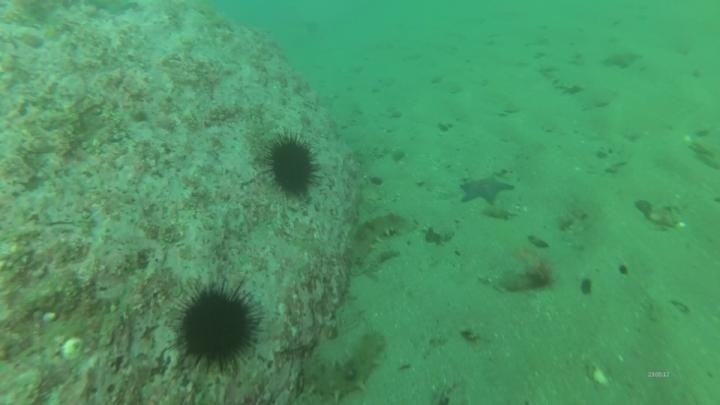echinus: (172, 279, 263, 374), (262, 132, 321, 199)
holothurian: (299, 326, 388, 403), (345, 209, 410, 270)
starfish: (457, 169, 516, 207), (599, 46, 645, 72), (88, 0, 140, 18)
